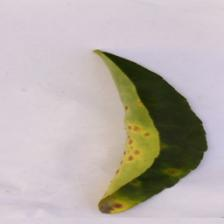canker: (114, 109, 172, 170)
